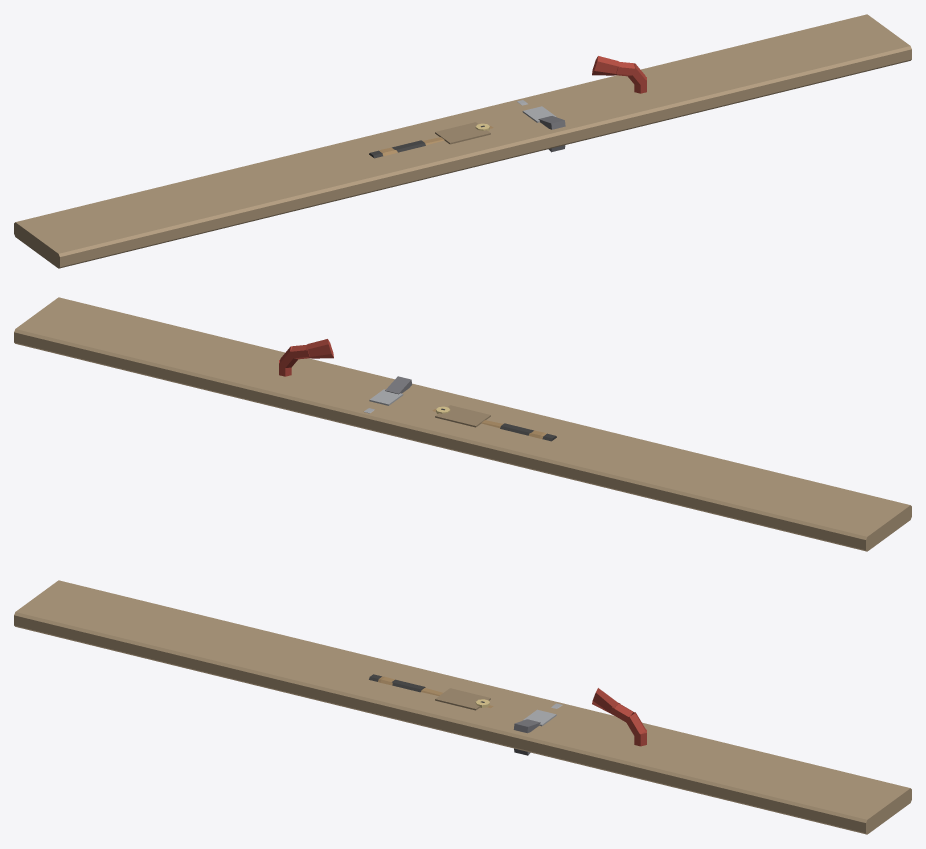
The model's file is przedmioty.glb.
3 renders of one model, top to bottom at view 1: azimuth 30°, elevation 25°; view 2: azimuth 150°, elevation 25°; view 3: azimuth 330°, elevation 25°, orthographic.
Parts seen in each view (by area): view 1: deska, mlotek, lom, wkrety; view 2: deska, mlotek, lom, wkrety; view 3: deska, mlotek, lom, wkrety.
Part boxes in pixels (x1,y1,x2,y2): deska: [14, 14, 911, 268]; mlotek: [369, 100, 565, 158]; lom: [592, 56, 646, 93]; wkrety: [435, 122, 490, 144]; deska: [14, 297, 911, 551]; mlotek: [364, 376, 556, 441]; lom: [279, 339, 333, 376]; wkrety: [435, 405, 490, 427]; deska: [14, 580, 911, 834]; mlotek: [369, 674, 562, 755]; lom: [592, 688, 646, 746]; wkrety: [435, 688, 490, 710].
Size of the model in its own units: 1.5 by 0.1347 by 0.14.
